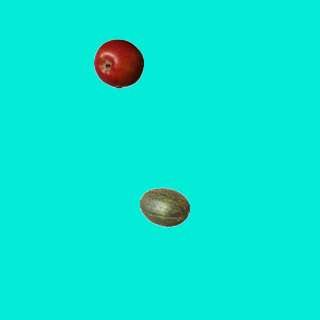Apple Braeburn: (93, 38, 143, 88)
Melon Piel de Sapo: (139, 182, 189, 232)
